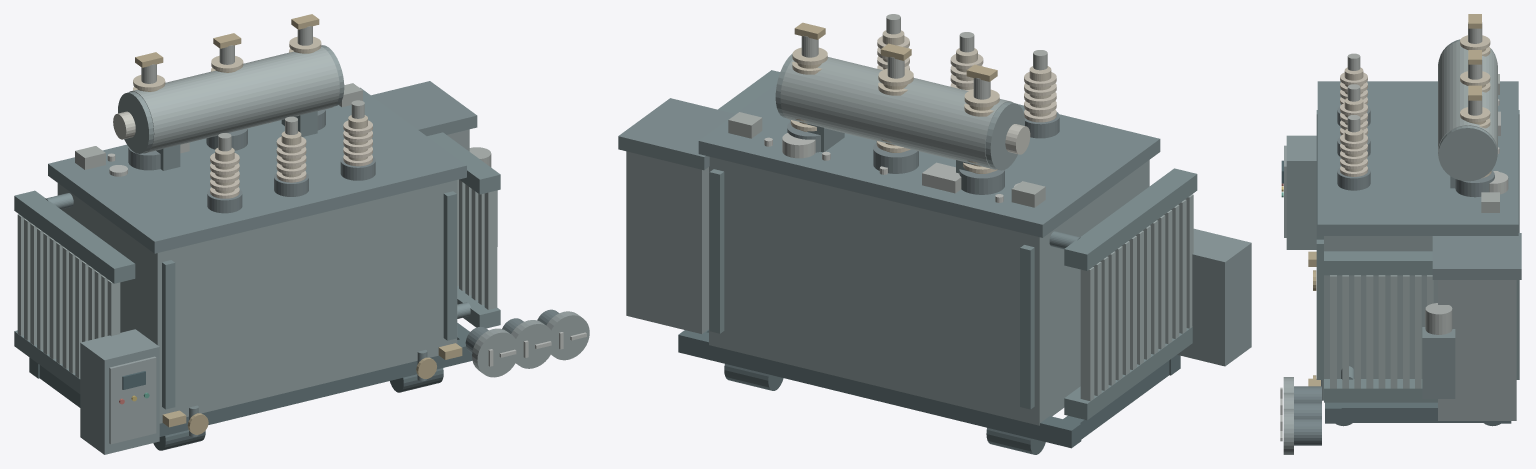
Rendered from transformer_100mva_220_33kv.glb.
The picture shows the model from 3 angles, left to right: view 1: azimuth 30°, elevation 25°; view 2: azimuth 150°, elevation 25°; view 3: azimuth 270°, elevation 25°; orthographic projection. The views are drawn at different scales.
Visible parts, largest first — view 1: Main tank, Tank top cover, Conservator shell, Marshalling cabinet, Radiator upper header -1, Tank base frame front, OLTC cover, Cabinet door, Tank stiffener 1.48 0.94, Tank stiffener -1.48 0.94, Cooling fan shroud 1, Radiator fin 1 14 (+28 smaller); view 2: Main tank, Tank top cover, OLTC compartment, Conservator shell, Marshalling cabinet, Tank base frame rear, Radiator upper header -1, OLTC cover, Tank stiffener 1.48 -0.94, Radiator lower header -1, Tank stiffener -1.48 -0.94, Radiator fin -1 0 (+26 smaller); view 3: Tank top cover, OLTC compartment, Main tank, OLTC cover, Marshalling cabinet, Conservator shell, Radiator upper header 1, Conservator end cap right, OLTC drive cabinet, Tank base frame right, Radiator lower header 1, Tank stiffener 1.48 0.94 (+25 smaller).
Part boxes in pixels (bbox=[...]): Main tank: bbox=[57, 180, 457, 423]; Tank top cover: bbox=[48, 87, 466, 253]; Conservator shell: bbox=[128, 46, 339, 153]; Marshalling cabinet: bbox=[80, 329, 159, 454]; Radiator upper header -1: bbox=[14, 190, 135, 283]; Tank base frame front: bbox=[159, 337, 472, 436]; OLTC cover: bbox=[371, 81, 477, 135]; Cabinet door: bbox=[109, 356, 156, 444]; Tank stiffener 1.48 0.94: bbox=[443, 191, 456, 340]; Tank stiffener -1.48 0.94: bbox=[162, 260, 175, 409]; Cooling fan shroud 1: bbox=[472, 328, 519, 377]; Radiator fin 1 14: bbox=[484, 190, 497, 309]; Main tank: bbox=[709, 157, 1149, 425]; Tank top cover: bbox=[698, 84, 1160, 237]; OLTC compartment: bbox=[626, 151, 708, 333]; Conservator shell: bbox=[780, 57, 1013, 169]; Marshalling cabinet: bbox=[1177, 228, 1251, 366]; Tank base frame rear: bbox=[678, 330, 1081, 448]; Radiator upper header -1: bbox=[1064, 168, 1197, 270]; OLTC cover: bbox=[618, 98, 734, 170]; Tank stiffener 1.48 -0.94: bbox=[709, 169, 724, 333]; Radiator lower header -1: bbox=[1064, 327, 1192, 420]; Tank stiffener -1.48 -0.94: bbox=[1020, 245, 1034, 409]; Radiator fin -1 0: bbox=[1080, 267, 1094, 401]; Tank top cover: bbox=[1317, 81, 1518, 235]; OLTC compartment: bbox=[1438, 280, 1516, 420]; Main tank: bbox=[1324, 236, 1437, 378]; OLTC cover: bbox=[1432, 233, 1521, 279]; Marshalling cabinet: bbox=[1286, 135, 1316, 249]; Conservator shell: bbox=[1438, 41, 1497, 157]; Radiator upper header 1: bbox=[1324, 251, 1432, 275]; Conservator end cap right: bbox=[1438, 125, 1497, 181]; OLTC drive cabinet: bbox=[1422, 327, 1455, 398]; Tank base frame right: bbox=[1329, 402, 1494, 422]; Radiator lower header 1: bbox=[1324, 379, 1437, 402]; Tank stiffener 1.48 0.94: bbox=[1316, 239, 1323, 379].
Bounding box in the file's own units: 5.08 × 3.28 × 2.33.
